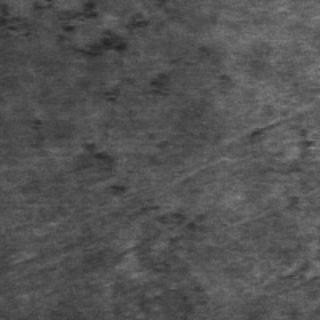rolled pit: (110, 194, 202, 274), (52, 0, 160, 60)
